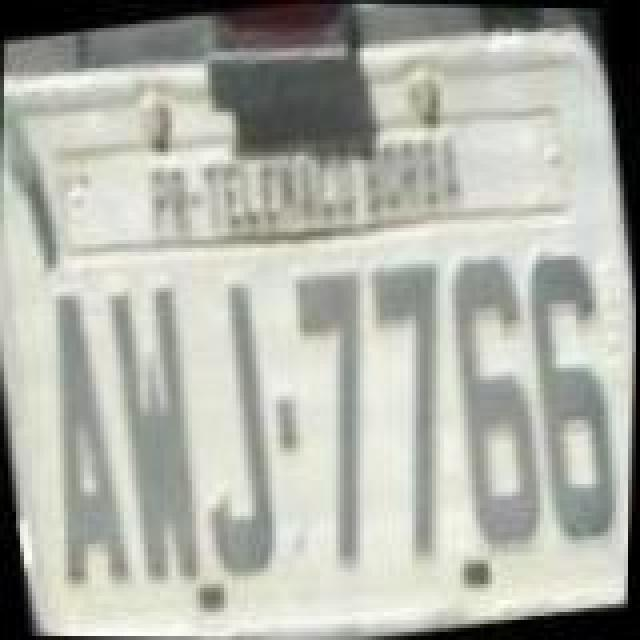6: (436, 246, 560, 550), (512, 240, 636, 544)
7: (356, 256, 480, 560), (286, 264, 406, 564)
A: (20, 286, 140, 594)
J: (170, 278, 294, 586)
W: (102, 278, 218, 582)
